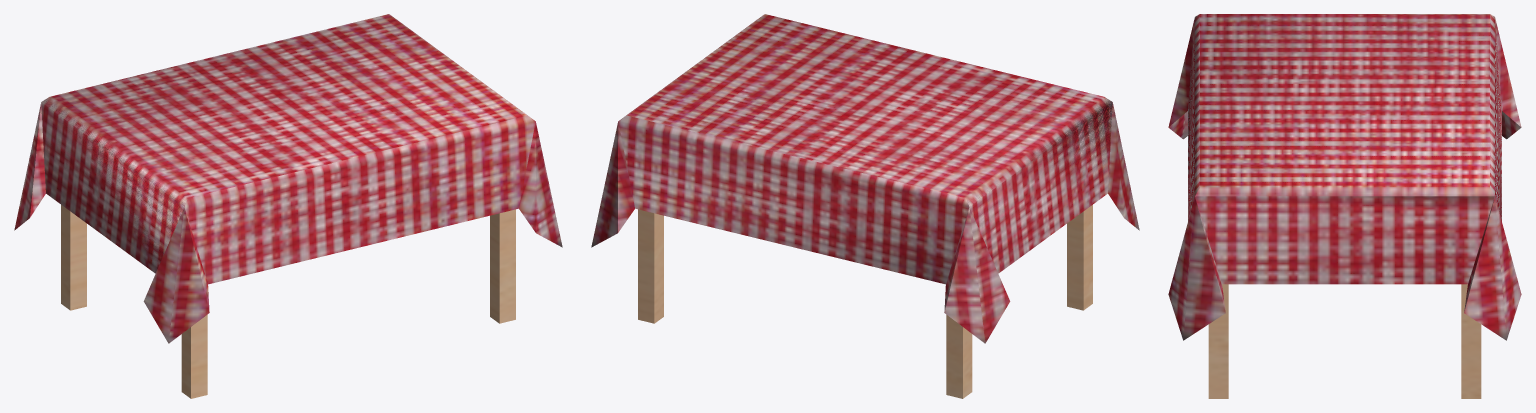
File: Table-col.glb
3 views of the same model, side by side, from view 1: azimuth 30°, elevation 25°; view 2: azimuth 150°, elevation 25°; view 3: azimuth 270°, elevation 25° (orthographic). The views are drawn at different scales.
Parts seen in each view (by area): view 1: Table-col; view 2: Table-col; view 3: Table-col.
Boxes of the visible parts, bbox=[...] form: Table-col: bbox=[14, 14, 562, 398]; Table-col: bbox=[591, 14, 1139, 398]; Table-col: bbox=[1168, 14, 1521, 398].
Size of the model in its own units: 1.93 by 0.9392 by 1.4.
1 material, 1 textured.
